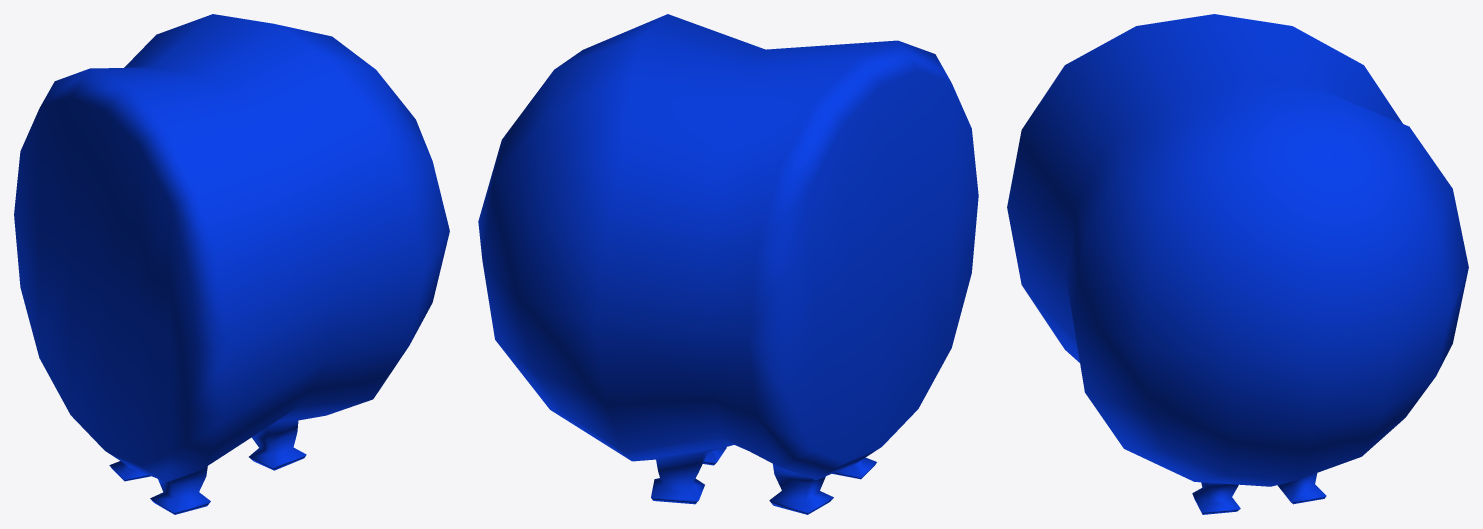
File: Caterpillar_Tail.fbx
3 renders of one model, left to right at view 1: azimuth 30°, elevation 25°; view 2: azimuth 150°, elevation 25°; view 3: azimuth 270°, elevation 25°, orthographic. The views are drawn at different scales.
Visible parts, largest first — view 1: Caterpillar_Tail; view 2: Caterpillar_Tail; view 3: Caterpillar_Tail.
Part boxes in pixels (left/top/right/bottom): Caterpillar_Tail: left=14, top=14, right=449, bottom=514; Caterpillar_Tail: left=478, top=14, right=978, bottom=514; Caterpillar_Tail: left=1007, top=14, right=1468, bottom=514.
Bounding box in the file's own units: 24.73 × 29.37 × 29.42.
